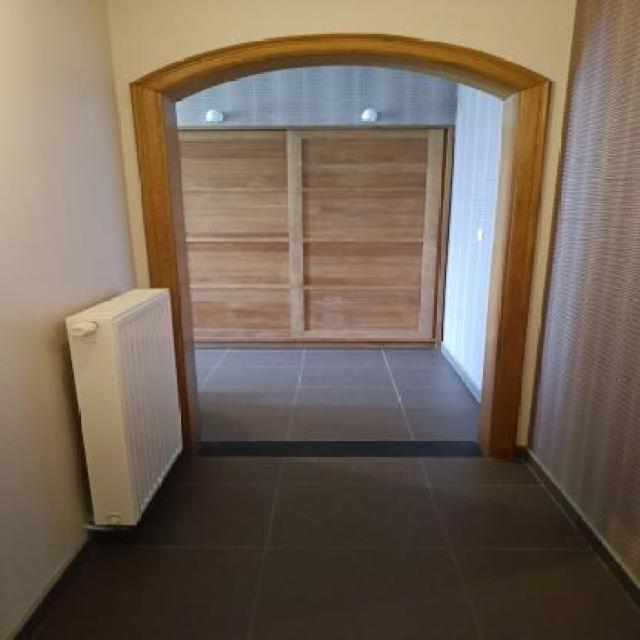floor: (14, 345, 638, 638)
